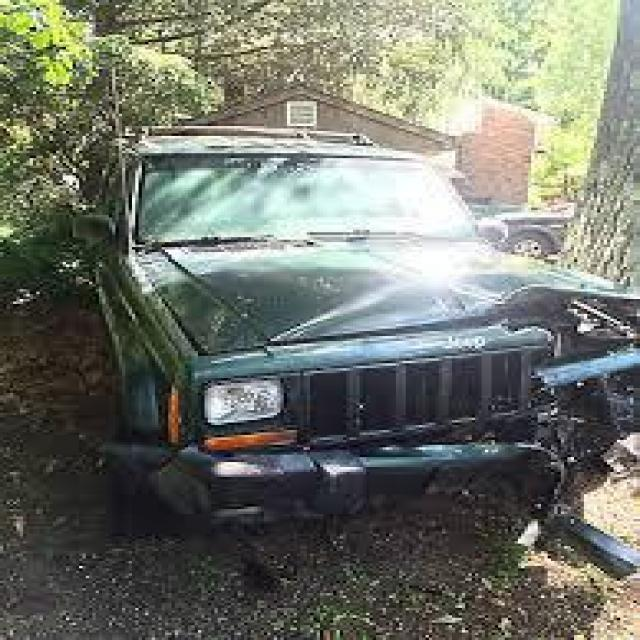damaged: (379, 284, 637, 489)
